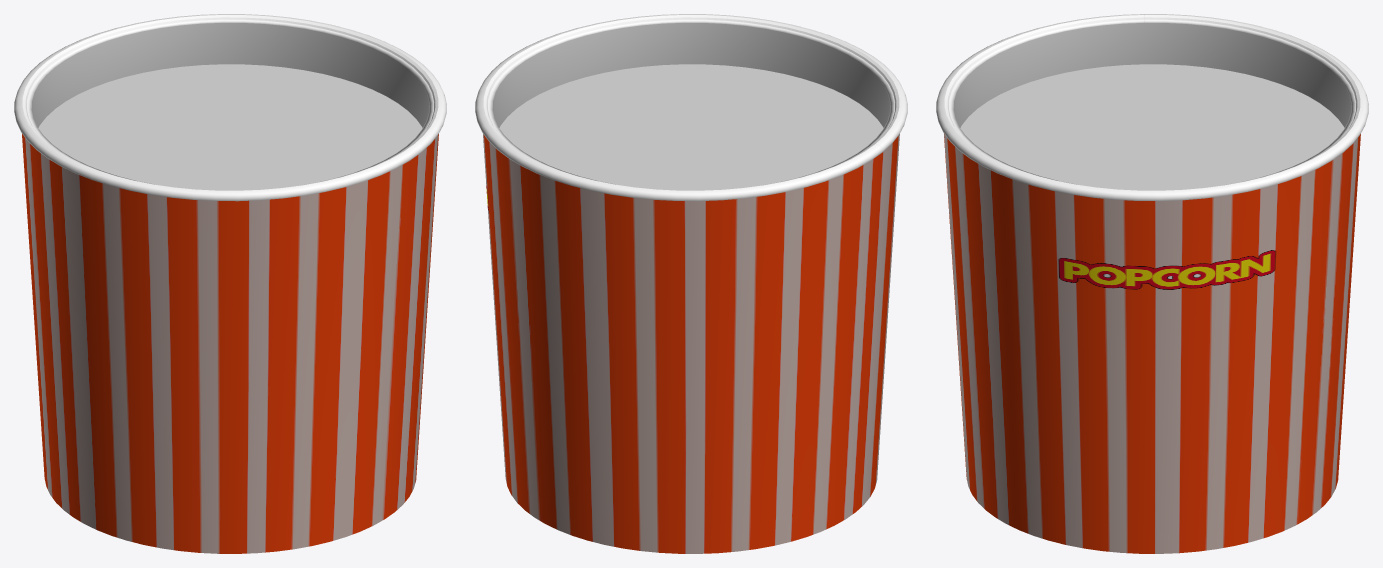
File: PopCornTub.fbx
3 views of the same model, side by side, from view 1: azimuth 30°, elevation 25°; view 2: azimuth 150°, elevation 25°; view 3: azimuth 270°, elevation 25° (orthographic).
Visible parts, largest first — view 1: pCylinder1; view 2: pCylinder1; view 3: pCylinder1.
Part boxes in pixels (x1,y1,x2,y2): pCylinder1: [14, 14, 446, 553]; pCylinder1: [475, 14, 907, 553]; pCylinder1: [936, 14, 1368, 553].
Size of the model in its own units: 11.27 by 10.71 by 11.27.
2 materials, 1 textured.
